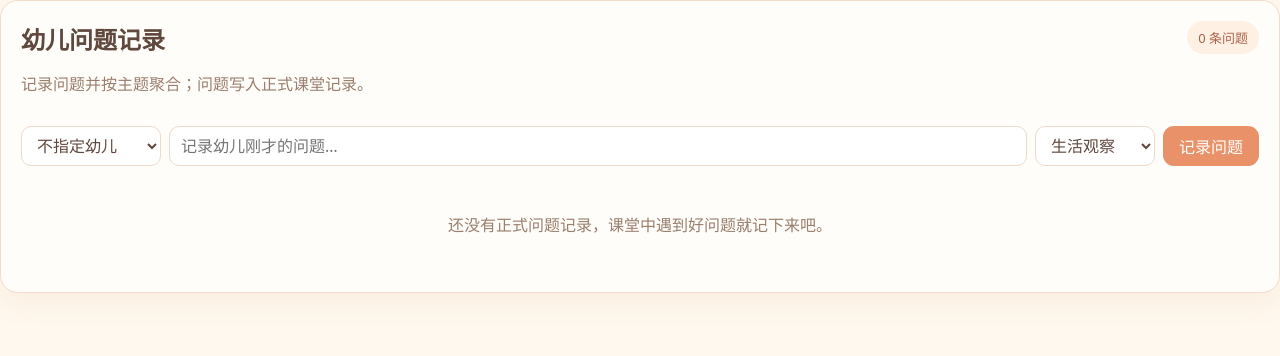
it: QuestionRecordPanel › 保存失败：不加入列表、不假装成功、展示错误
Step 1. Type "为什么？" into the field with placeholder "记录幼儿刚才的问题…" → coordinates (598, 146), box [169,126,1027,166]
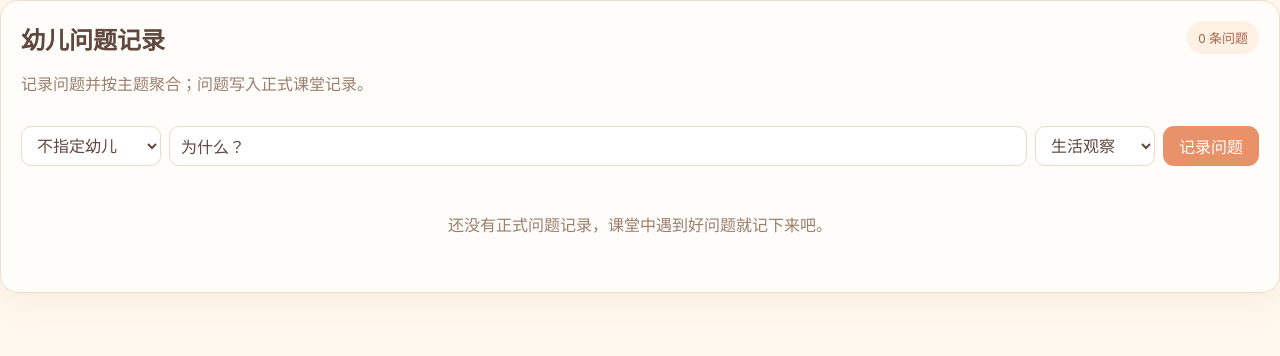
Step 2. Click the button "记录问题" → coordinates (1211, 146), box [1163,126,1259,166]
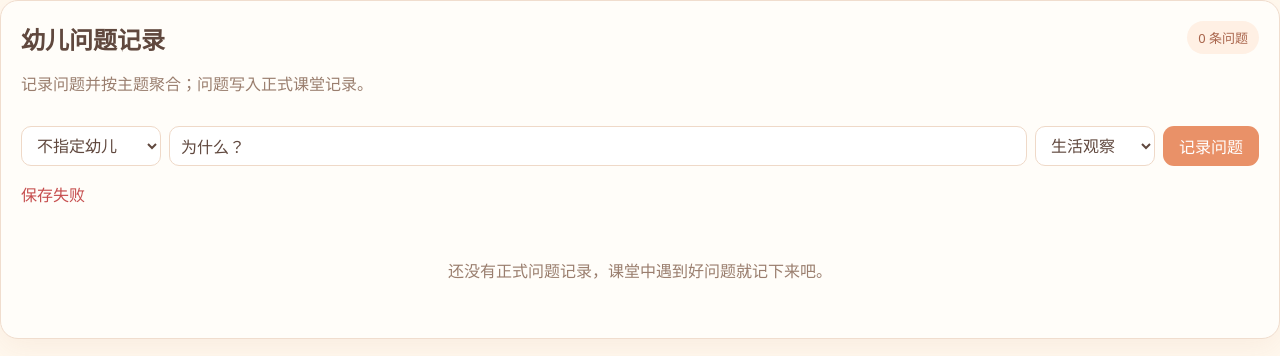
Check: the text "保存失败" is shown, box [21,184,85,206]
